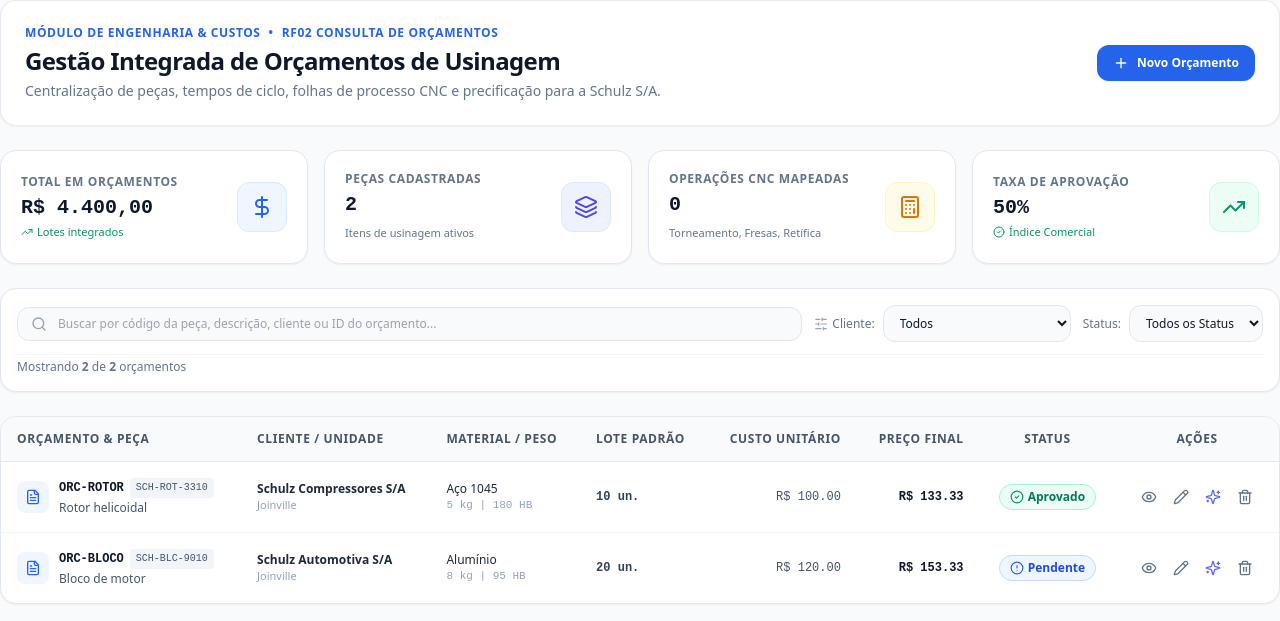
Test case: Consulta de orçamentos no dashboard › DADO orçamentos de peças distintas QUANDO a peça é pesquisada pelo código ENTÃO exibe somente o orçamento correspondente
Type "ROT-3310" into the field with placeholder "Buscar por código da peça, descrição, cliente ou ID do orçamento...".
click(410, 324); type("ROT-3310")  # box x1=17 y1=306 x2=802 y2=340
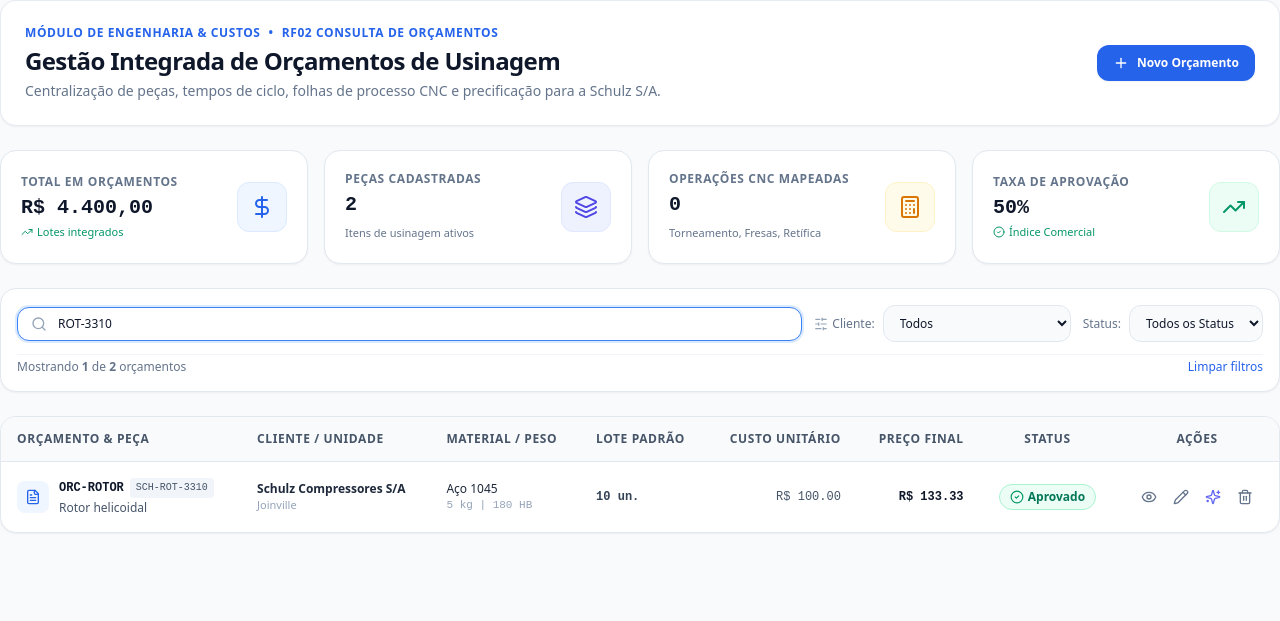
Expected: the text "Rotor helicoidal" is shown, x1=59 y1=499 x2=147 y2=516
Now the text "Bloco de motor" is gone
